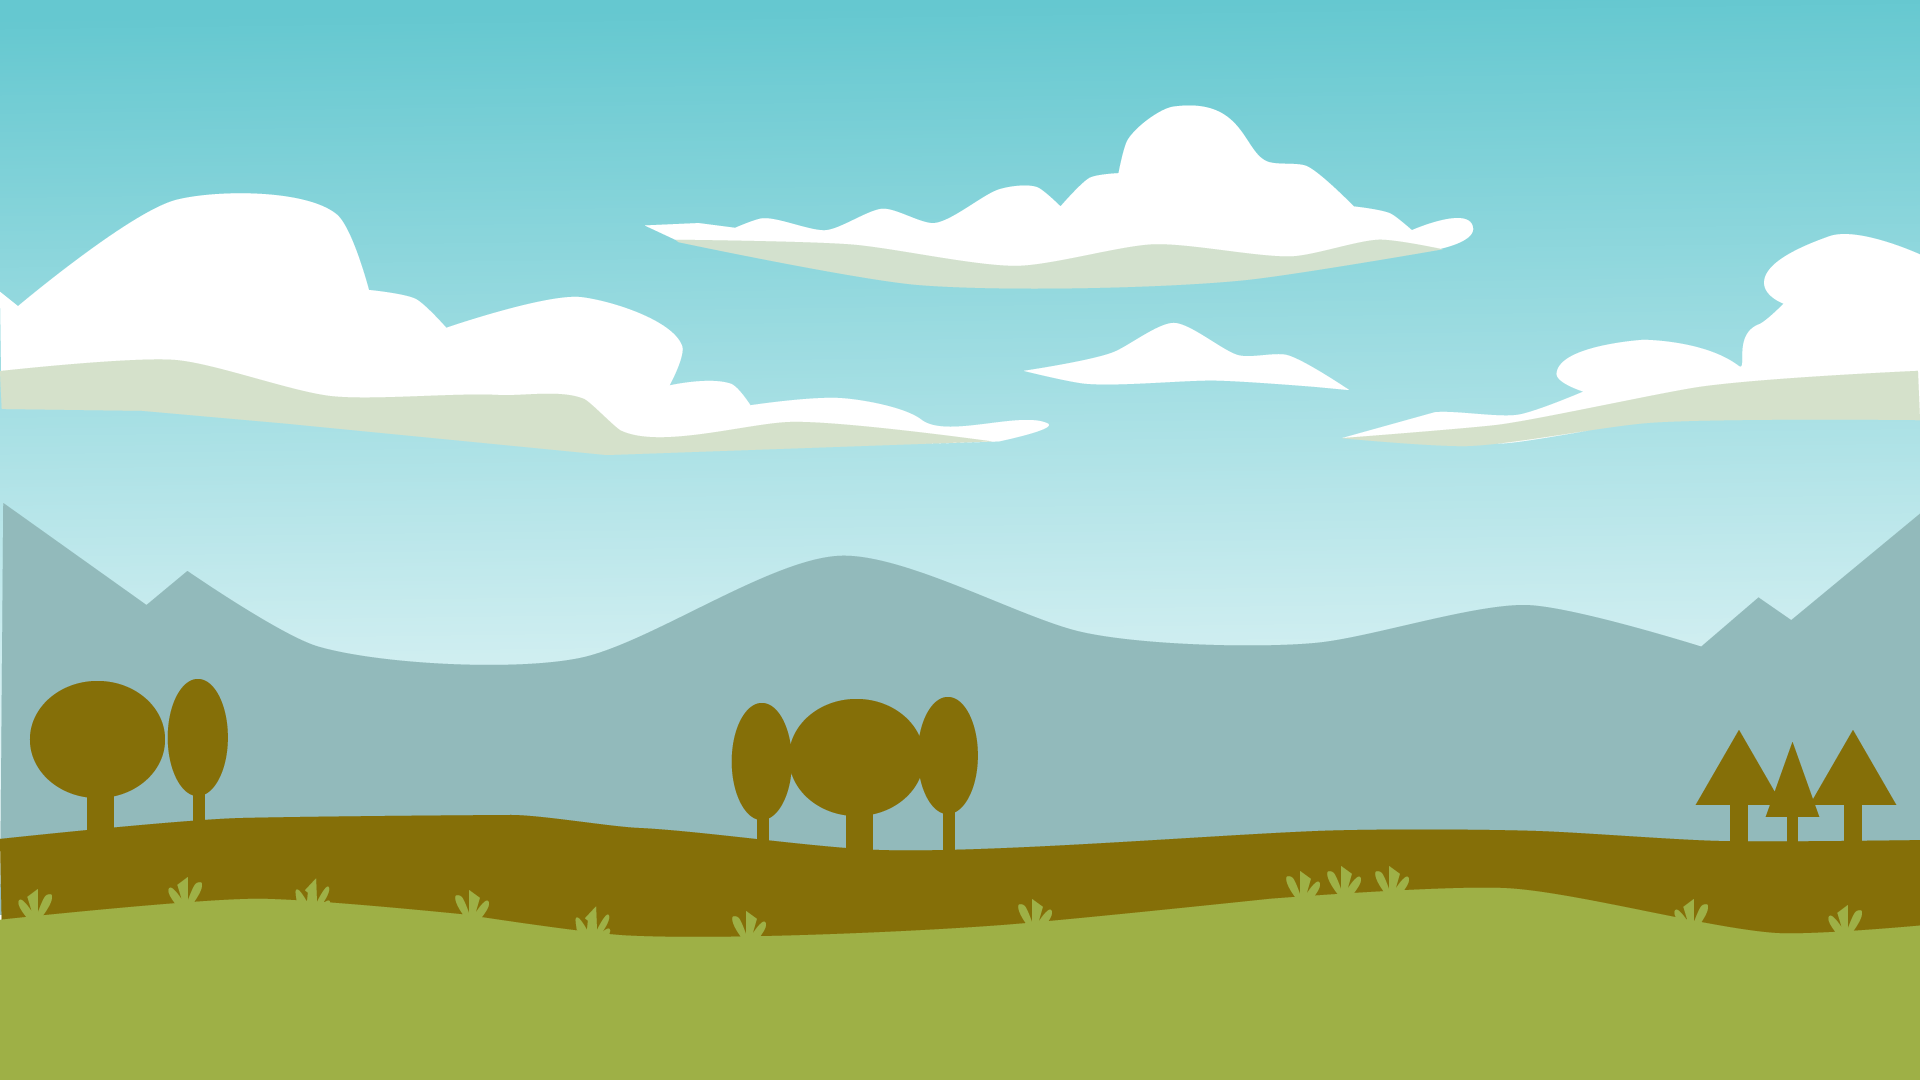character: (982, 761, 1039, 833)
doormonster: (637, 185, 702, 270), (1288, 185, 1353, 270)
eatflowermonster: (375, 433, 439, 518), (957, 240, 1022, 324), (1549, 342, 1613, 426)
ground: (1, 865, 1920, 1077), (1698, 673, 1913, 862), (1, 717, 240, 862)
ground_grass: (785, 603, 1253, 647), (160, 535, 570, 578), (1437, 462, 1753, 512), (868, 371, 1133, 417)
window: (3, 229, 489, 1071)
